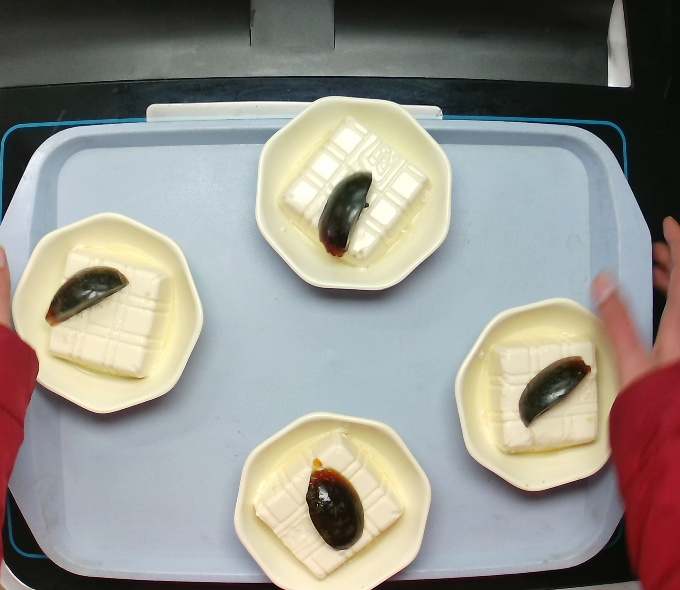wcq-PiDanDouFu: (251, 428, 402, 577), (468, 320, 619, 469), (276, 118, 427, 267), (36, 244, 187, 393)
